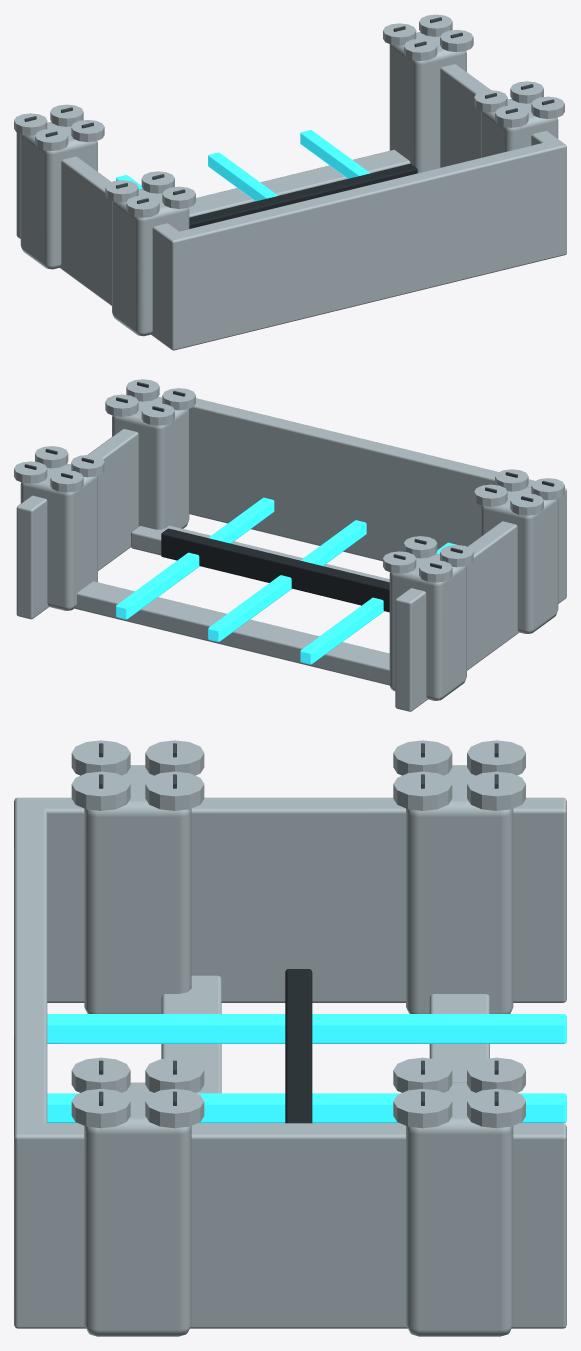
The model's file is data-centre-infiltration-kit-data-centre-infiltration--aff68b8c__29268.glb.
3 renders of one model, top to bottom at view 1: azimuth 30°, elevation 25°; view 2: azimuth 150°, elevation 25°; view 3: azimuth 270°, elevation 25°, orthographic. The views are drawn at different scales.
Visible parts, largest first — view 1: data-centre-infiltration-kit-cable-end; view 2: data-centre-infiltration-kit-cable-end; view 3: data-centre-infiltration-kit-cable-end.
Part boxes in pixels (x1,y1,x2,y2): data-centre-infiltration-kit-cable-end: (14,14,566,350); data-centre-infiltration-kit-cable-end: (14,379,566,711); data-centre-infiltration-kit-cable-end: (14,740,566,1336).
Size of the model in its own units: 0.659 by 0.196 by 0.4125.
